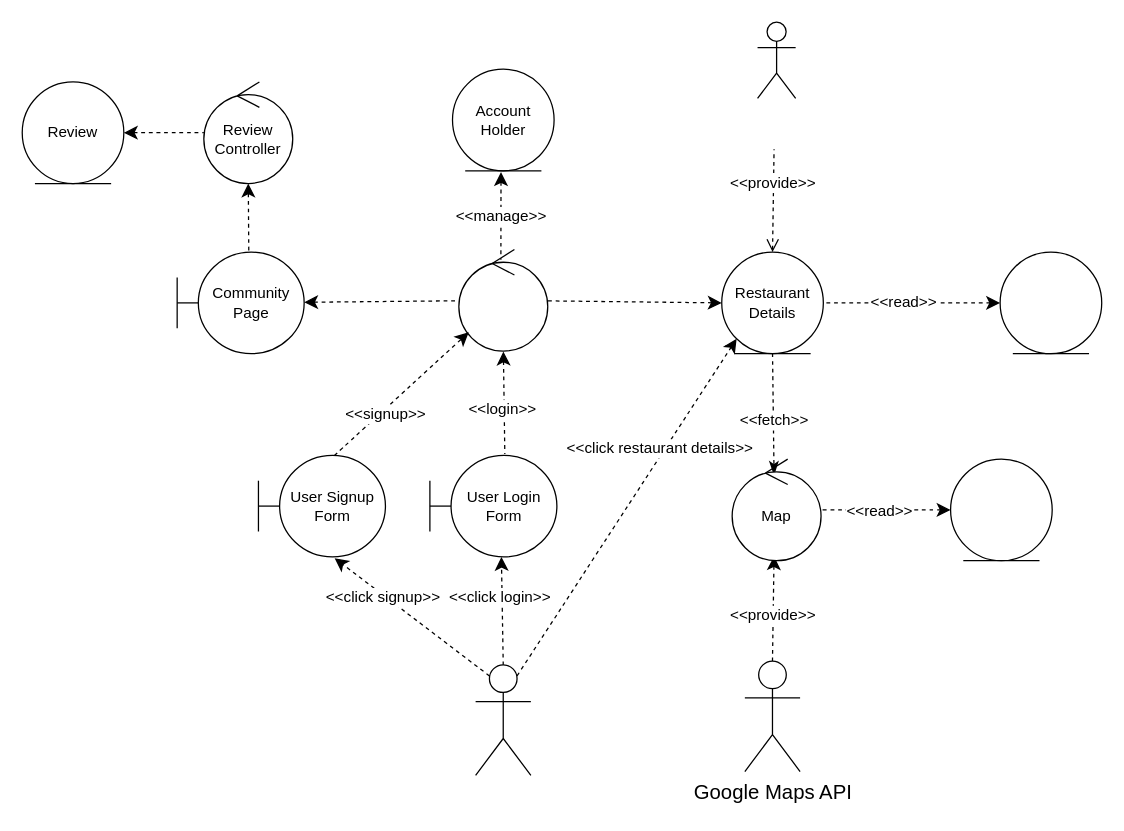
Image size: 1124x831. Some labels were removed from this diagram. The shapes that lost their labels are listed below. From the top down, each one's centre as x and y in pixels, then its label:
At point 776,59: "Restaurants Database".
At point 503,299: "User Controller".
At point 1050,302: "Menu".
At point 1000,509: "Map Location".
At point 502,719: "Public User".
